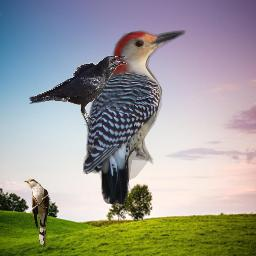Crow: (29, 55, 127, 131)
Cuckoo: (24, 179, 49, 247)
Woodpecker: (83, 30, 186, 204)
